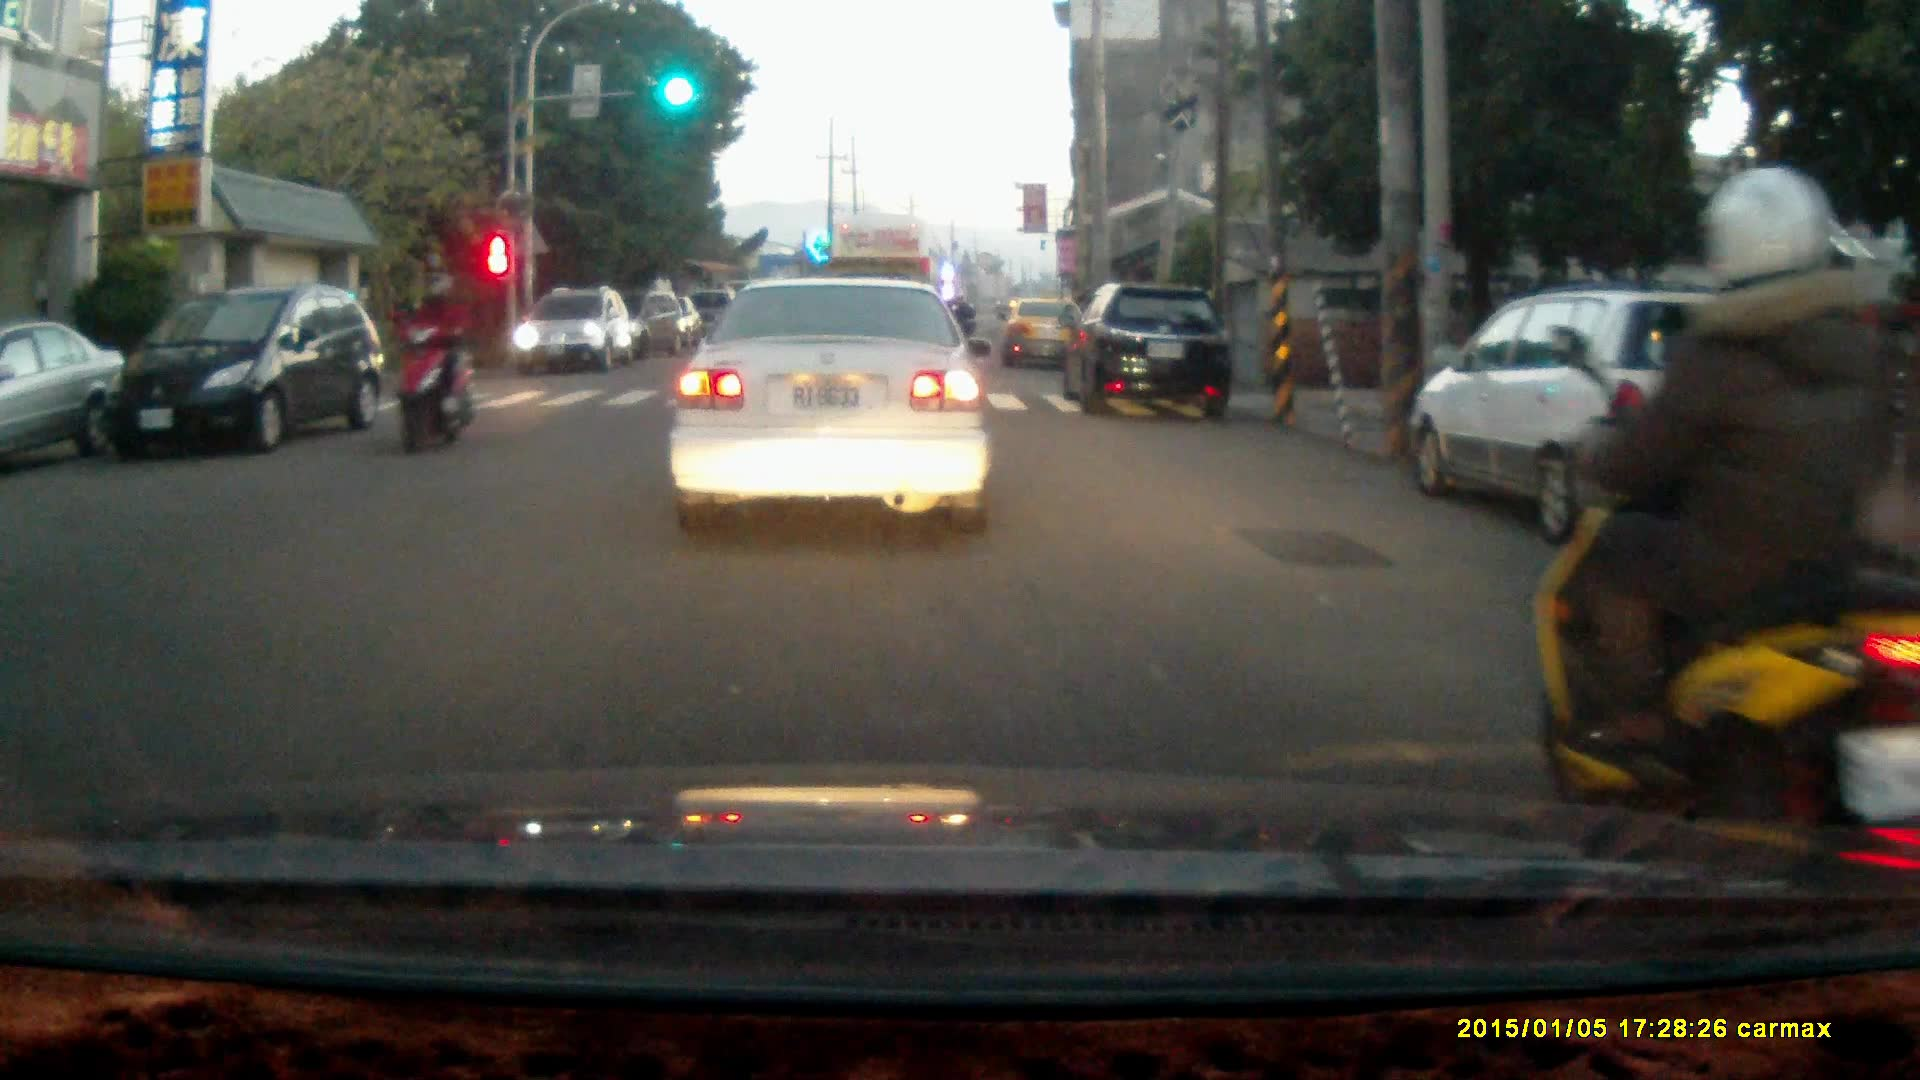rider: (1530, 164, 1920, 894), (389, 266, 471, 458)
vehicle: (1403, 287, 1828, 550), (674, 272, 995, 529), (97, 281, 388, 461), (1072, 283, 1233, 419), (0, 319, 123, 471), (826, 206, 941, 364), (516, 289, 637, 380), (1001, 296, 1096, 374)
